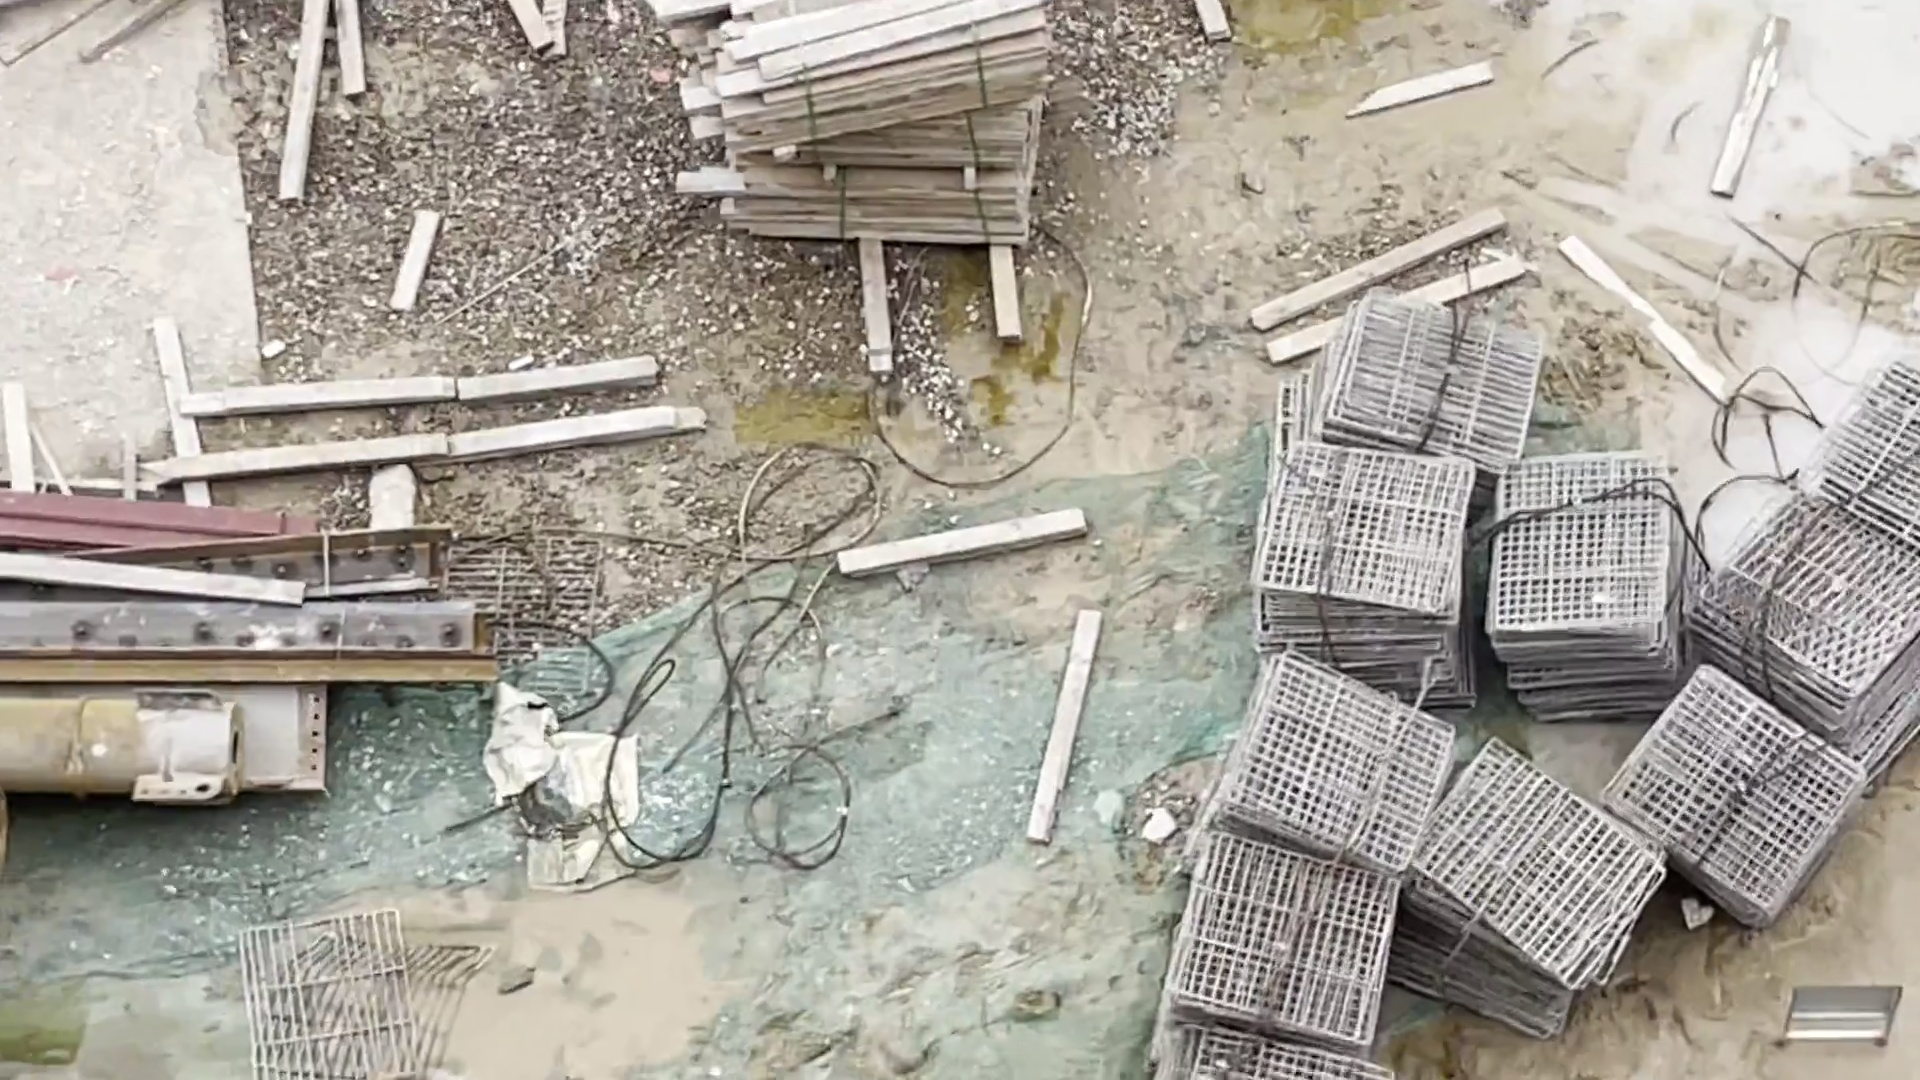wood: (713, 29, 1031, 248)
